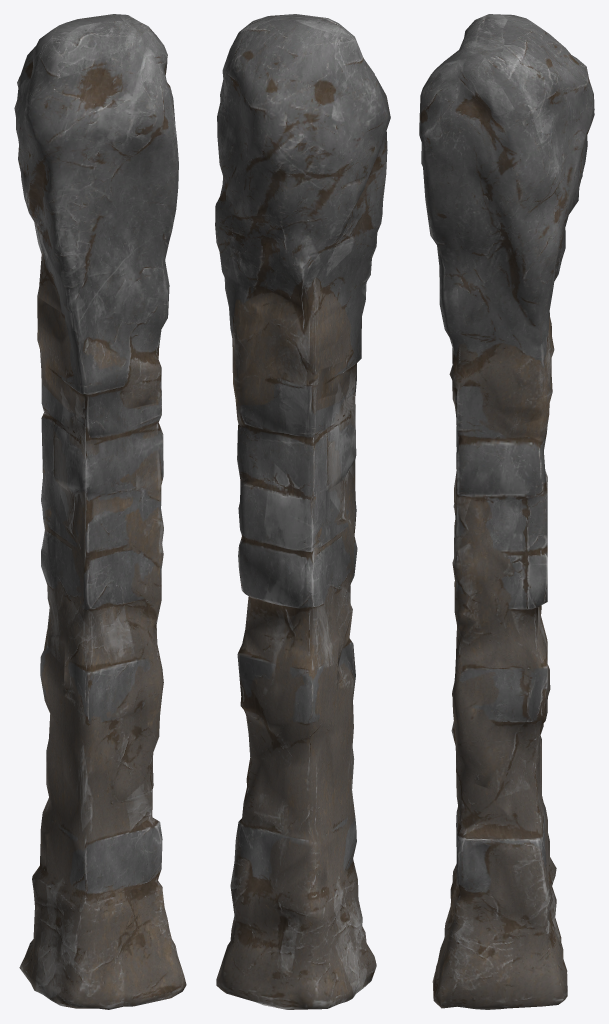
The model's file is SM_Pillar01.FBX.
3 renders of one model, left to right at view 1: azimuth 30°, elevation 25°; view 2: azimuth 150°, elevation 25°; view 3: azimuth 270°, elevation 25°, orthographic.
Visible parts, largest first — view 1: SM_Pillar01; view 2: SM_Pillar01; view 3: SM_Pillar01.
Part boxes in pixels (box(x1,y1,x2,y2)): SM_Pillar01: box(14, 14, 186, 1009); SM_Pillar01: box(215, 14, 390, 1009); SM_Pillar01: box(419, 14, 594, 1009).
Bounding box in the file's own units: 263 × 272 × 1637.
